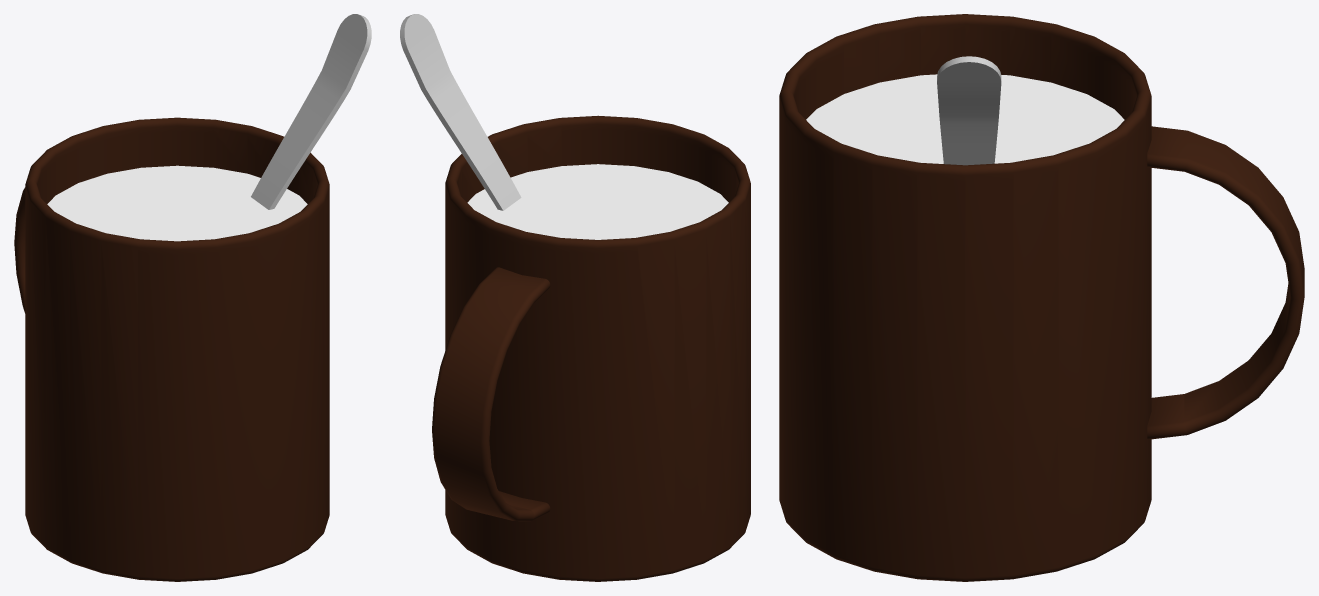
3 renders of one model, left to right at view 1: azimuth 30°, elevation 25°; view 2: azimuth 150°, elevation 25°; view 3: azimuth 270°, elevation 25°, orthographic. The views are drawn at different scales.
Parts seen in each view (by area): view 1: mesh2_mesh2-geometry, mesh3_mesh3-geometry, mesh1_mesh1-geometry; view 2: mesh2_mesh2-geometry, mesh1_mesh1-geometry, mesh3_mesh3-geometry; view 3: mesh2_mesh2-geometry, mesh1_mesh1-geometry, mesh3_mesh3-geometry.
Boxes of the visible parts, x1,y1,x2,y2 form: mesh2_mesh2-geometry: [25, 117, 329, 581]; mesh3_mesh3-geometry: [251, 14, 371, 209]; mesh1_mesh1-geometry: [14, 187, 25, 313]; mesh2_mesh2-geometry: [445, 115, 750, 581]; mesh1_mesh1-geometry: [432, 267, 550, 521]; mesh3_mesh3-geometry: [400, 14, 521, 210]; mesh2_mesh2-geometry: [779, 14, 1151, 581]; mesh1_mesh1-geometry: [1147, 126, 1304, 439]; mesh3_mesh3-geometry: [937, 56, 1001, 165].
Size of the model in its own units: 0.4883 by 0.6647 by 0.5654.
